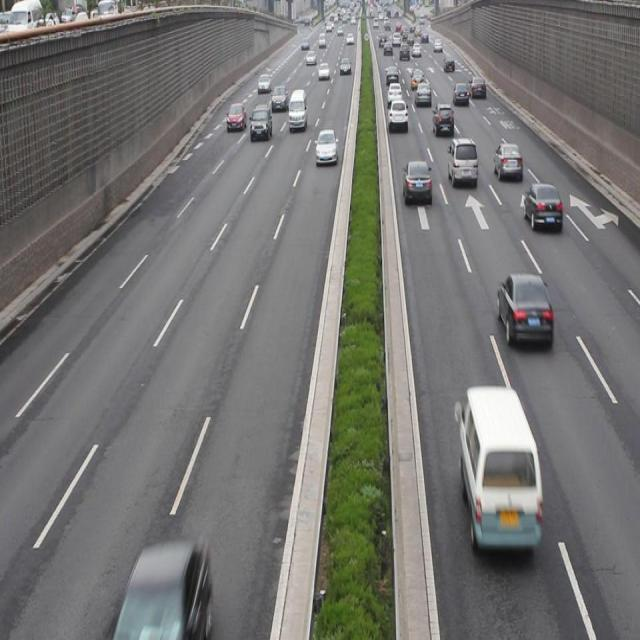car: (497, 272, 552, 348), (522, 180, 560, 232), (446, 136, 477, 188), (492, 141, 523, 183), (403, 158, 430, 204), (431, 101, 455, 140), (250, 104, 273, 140), (315, 129, 337, 165), (387, 98, 408, 130), (226, 100, 247, 132)
truck: (459, 384, 540, 550)
